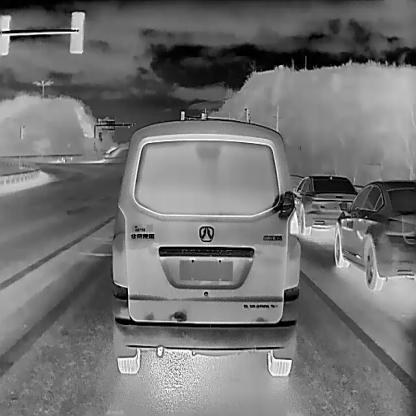car: (109, 115, 304, 380), (333, 176, 415, 291), (291, 172, 359, 238)
